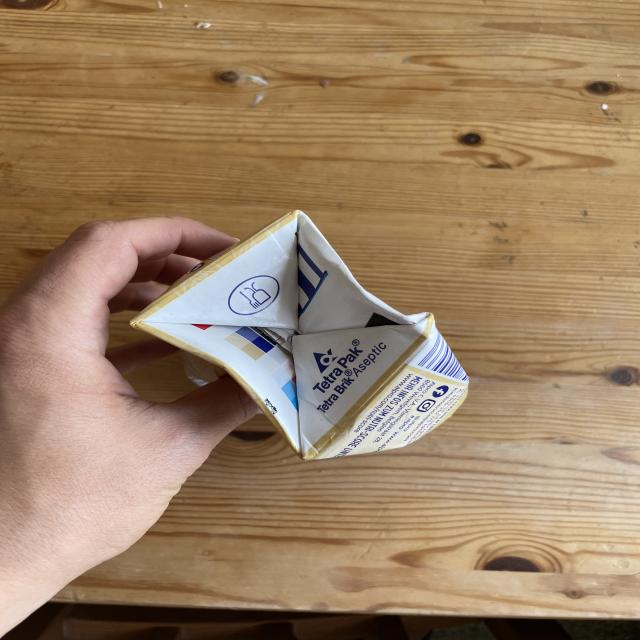non_white_jug: (143, 208, 466, 460)
